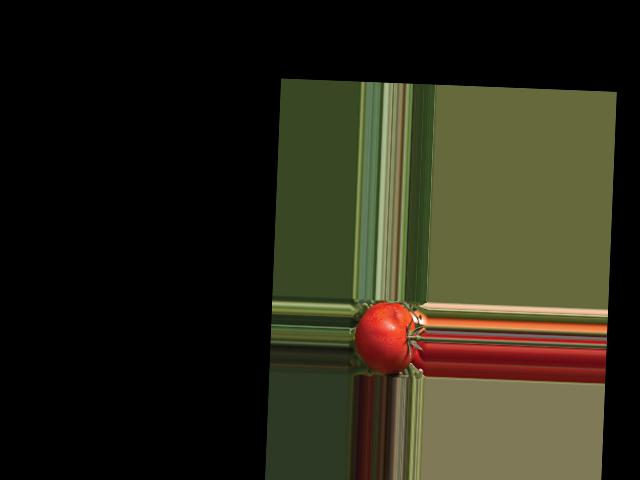tomato: (353, 300, 417, 374)
